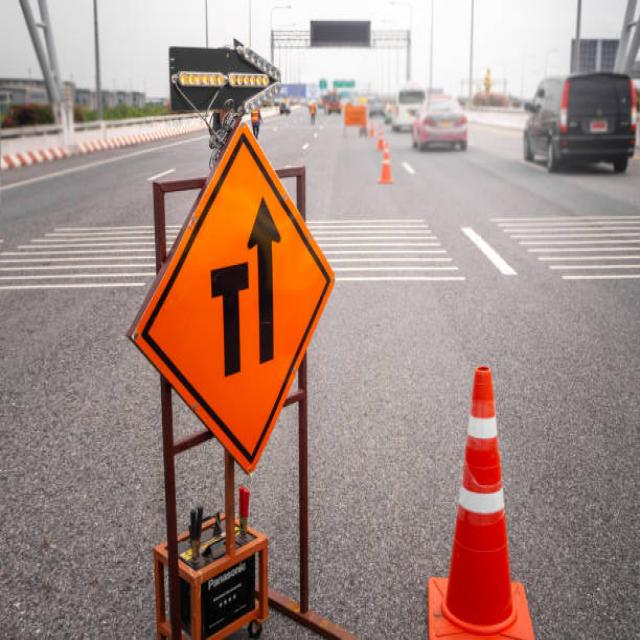Traffic Cone: (406, 318, 571, 640)
